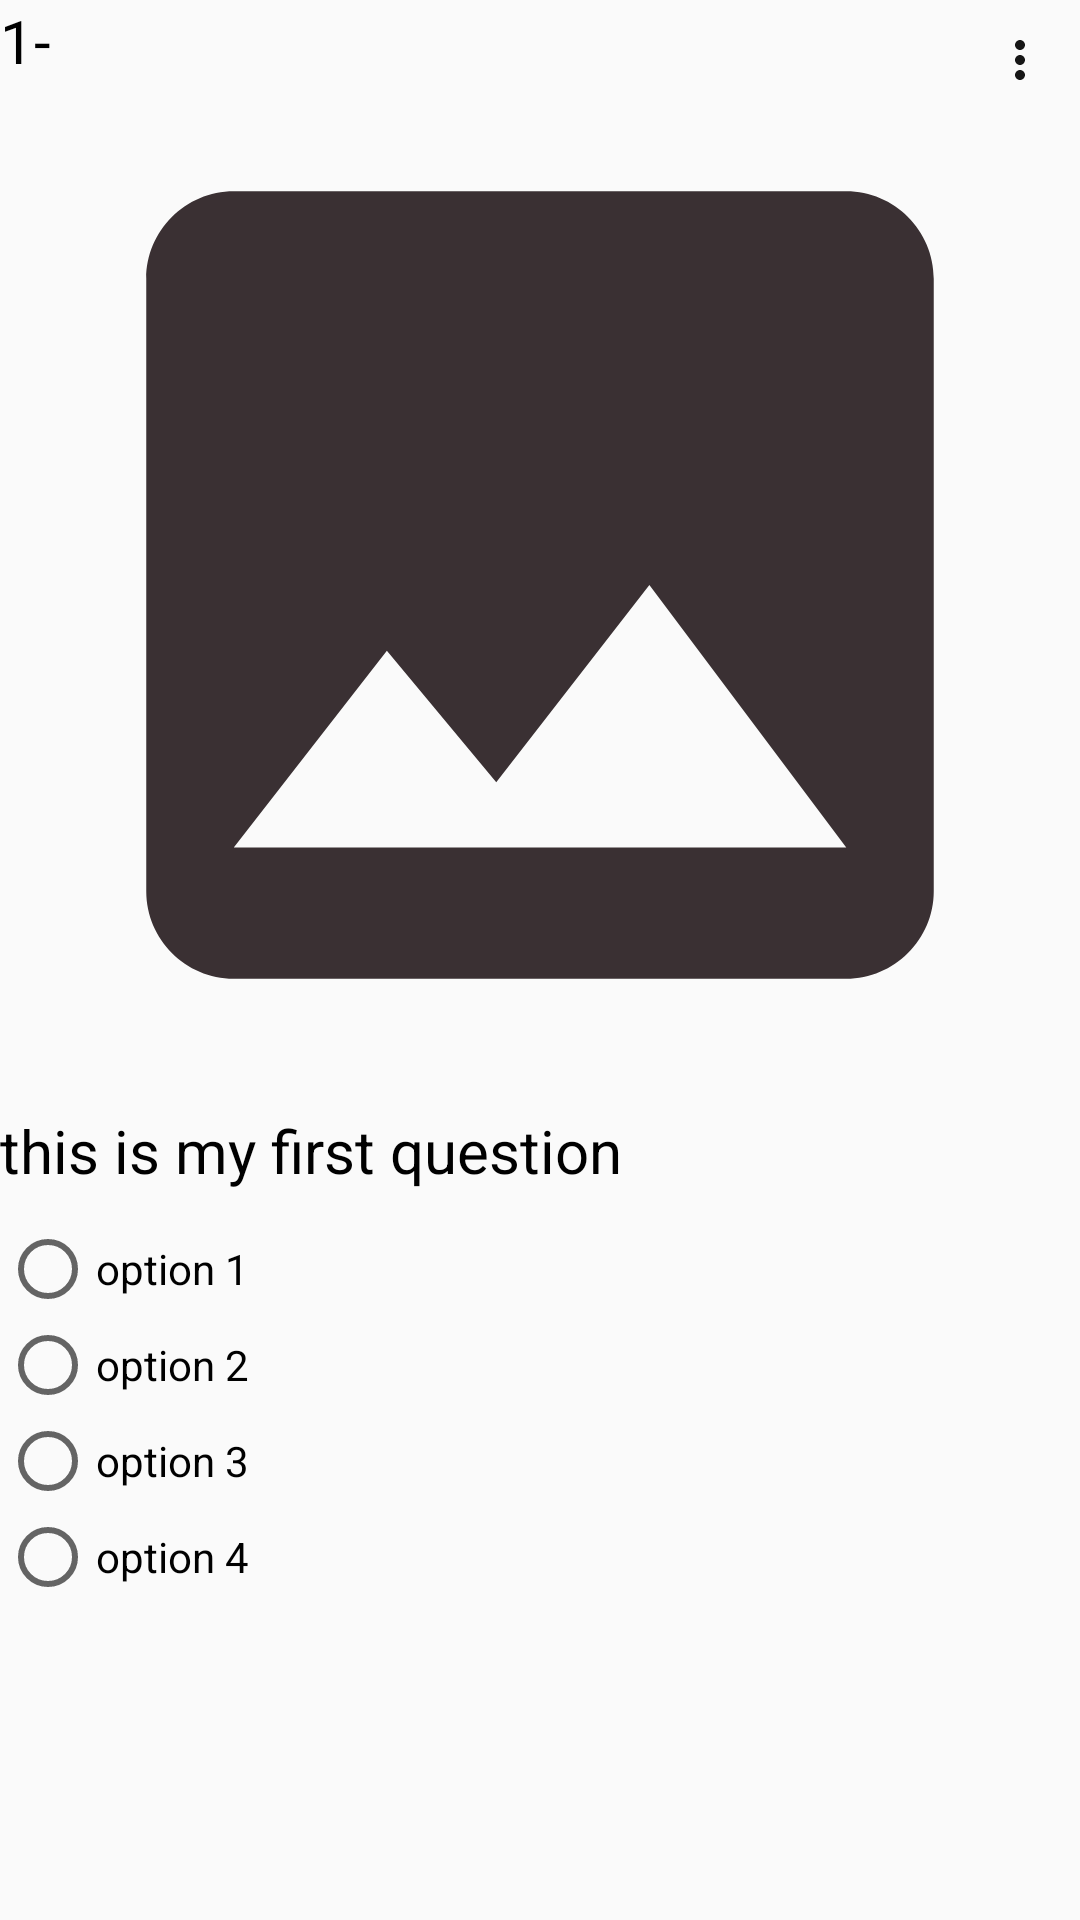

Icon bounding boxes for this 1080px x 1920px phone screenshot, format Rect(x1, y1, x2, y2):
dot: Rect(1015, 40, 1025, 80)
